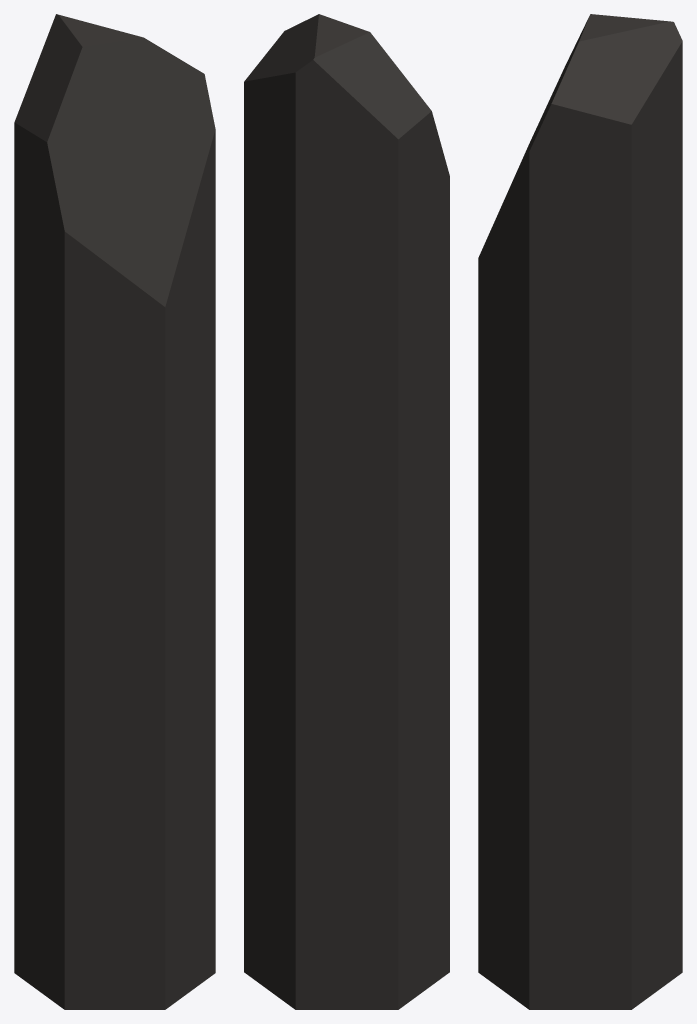
File: forth1.fbx
The picture shows the model from 3 angles, left to right: view 1: azimuth 30°, elevation 25°; view 2: azimuth 150°, elevation 25°; view 3: azimuth 270°, elevation 25°; orthographic projection. The views are drawn at different scales.
Visible parts, largest first — view 1: Circle.001; view 2: Circle.001; view 3: Circle.001.
Part boxes in pixels (<box>): Circle.001: <box>14,14,215,1009</box>; Circle.001: <box>244,14,449,1009</box>; Circle.001: <box>478,14,682,1009</box>.
Size of the model in its own units: 38.22 by 225 by 44.14.
